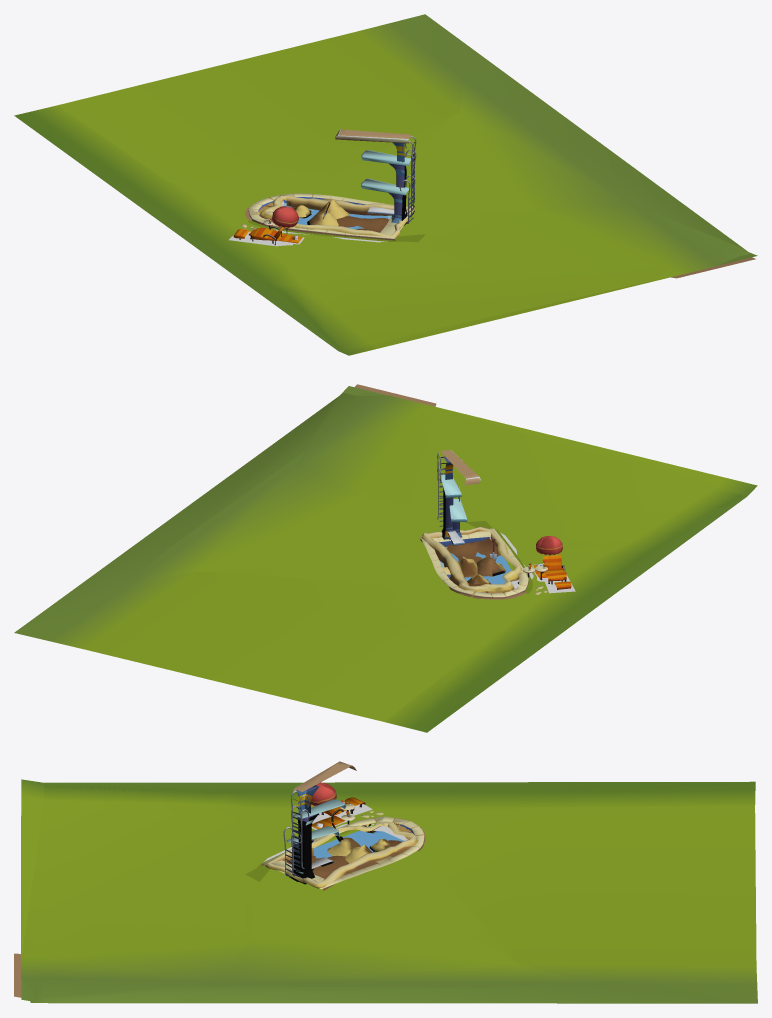
File: Yard01_Pool.fbx
3 views of the same model, one above another, from view 1: azimuth 30°, elevation 25°; view 2: azimuth 150°, elevation 25°; view 3: azimuth 270°, elevation 25° (orthographic). The views are drawn at different scales.
Visible parts, largest first — view 1: Pool_Ground_L1_L2_L3_L4_L5, Pool_Ground_L0, Pool_Sand_L0_G, Pool_Structure_L1_L2_L3_L4_L5_G, Pool_Shadow_L1_L2_L3_L4_L5, Pool_DivingBoardTop_L5_G; view 2: Pool_Ground_L1_L2_L3_L4_L5, Pool_Ground_L0, Pool_Sand_L0_G, Pool_Structure_L1_L2_L3_L4_L5_G, Pool_Shadow_L1_L2_L3_L4_L5; view 3: Pool_Ground_L1_L2_L3_L4_L5, Pool_Ground_L0, Pool_Sand_L0_G, Pool_Structure_L1_L2_L3_L4_L5_G, Pool_DivingBoardPillar_L4_G, Pool_Shadow_L1_L2_L3_L4_L5, Pool_DivingBoardTop_L5_G, Pool_SandPile1_L0_G, Pool_Parasol_L4_L5_G.
Boxes of the visible parts, left/top/right/bottom form: Pool_Ground_L1_L2_L3_L4_L5: left=14, top=14, right=757, bottom=355; Pool_Ground_L0: left=15, top=15, right=749, bottom=355; Pool_Sand_L0_G: left=256, top=195, right=414, bottom=238; Pool_Structure_L1_L2_L3_L4_L5_G: left=248, top=193, right=404, bottom=240; Pool_Shadow_L1_L2_L3_L4_L5: left=245, top=205, right=755, bottom=278; Pool_DivingBoardTop_L5_G: left=335, top=129, right=411, bottom=143; Pool_Ground_L1_L2_L3_L4_L5: left=14, top=386, right=757, bottom=732; Pool_Ground_L0: left=16, top=393, right=757, bottom=731; Pool_Sand_L0_G: left=420, top=526, right=528, bottom=592; Pool_Structure_L1_L2_L3_L4_L5_G: left=420, top=528, right=528, bottom=598; Pool_Shadow_L1_L2_L3_L4_L5: left=354, top=384, right=532, bottom=599; Pool_Ground_L1_L2_L3_L4_L5: left=21, top=779, right=757, bottom=1003; Pool_Ground_L0: left=21, top=779, right=756, bottom=1003; Pool_Sand_L0_G: left=265, top=821, right=418, bottom=890; Pool_Structure_L1_L2_L3_L4_L5_G: left=261, top=816, right=424, bottom=889; Pool_DivingBoardPillar_L4_G: left=294, top=813, right=318, bottom=884; Pool_Shadow_L1_L2_L3_L4_L5: left=14, top=817, right=425, bottom=997; Pool_DivingBoardTop_L5_G: left=293, top=761, right=356, bottom=791; Pool_SandPile1_L0_G: left=327, top=822, right=360, bottom=856; Pool_Parasol_L4_L5_G: left=311, top=782, right=336, bottom=806.
Bounding box in the file's own units: 1018 × 217 × 1443.
